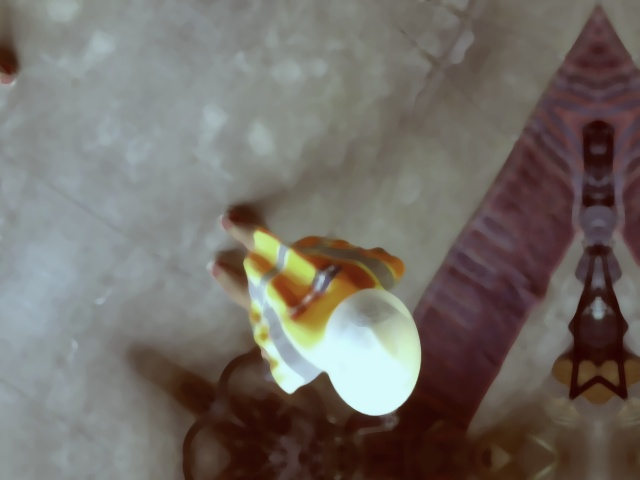eight: (349, 290, 393, 337)
